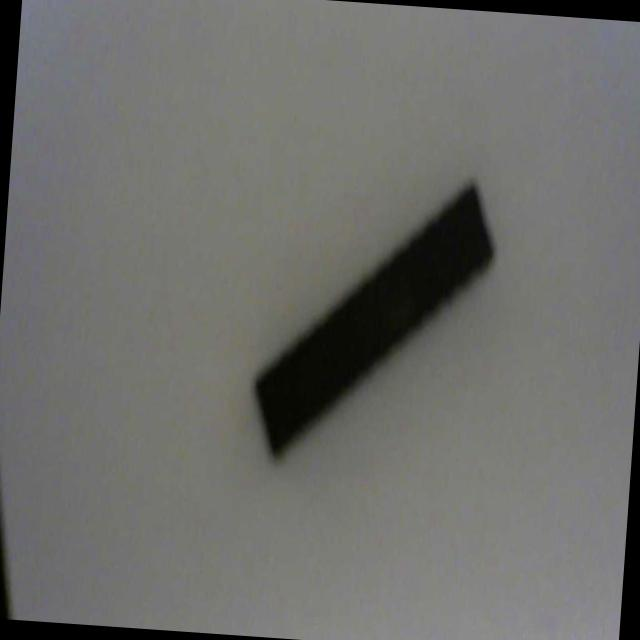atmega: (244, 159, 502, 478)
